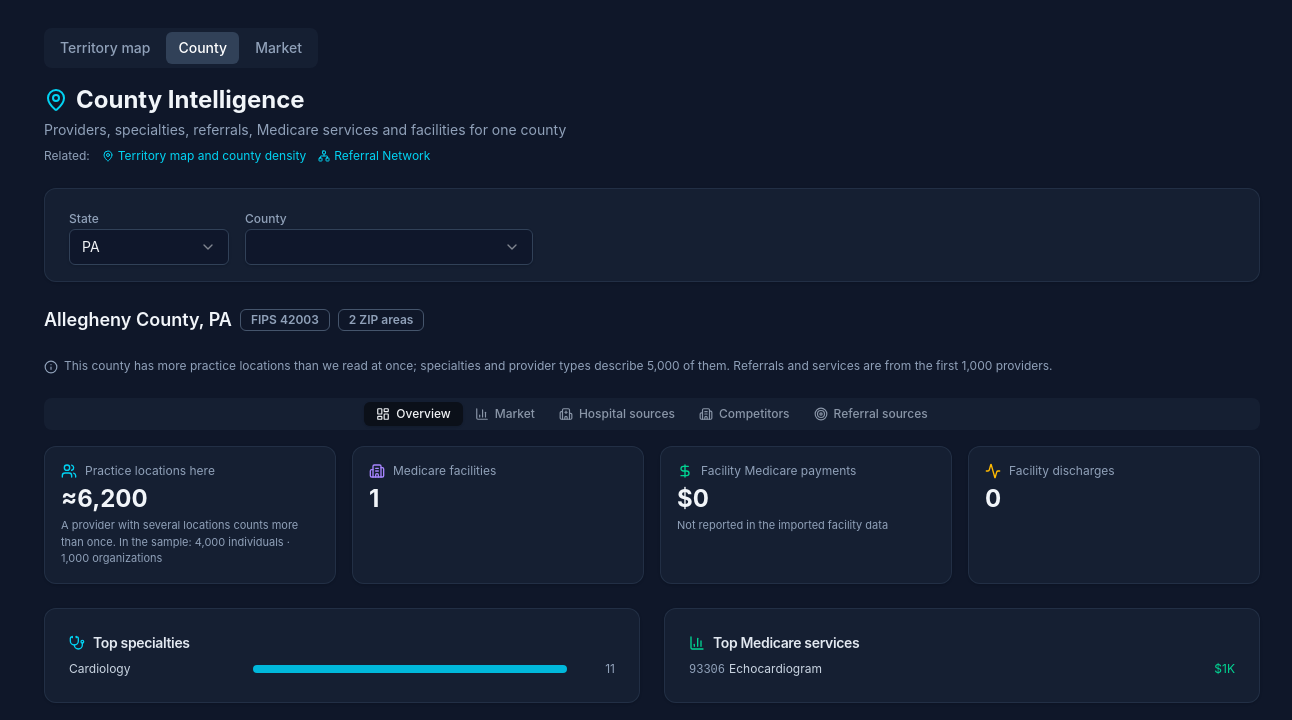
it: CountyIntelligence › drops the county when the state changes, and does not bring it back
The width and height of the screenshot is (1292, 720).
Expected: the heading "Allegheny County, PA" is shown, [44,306,232,334]
Press Enter in the dropdown with id "county-state", box [69,229,229,265]
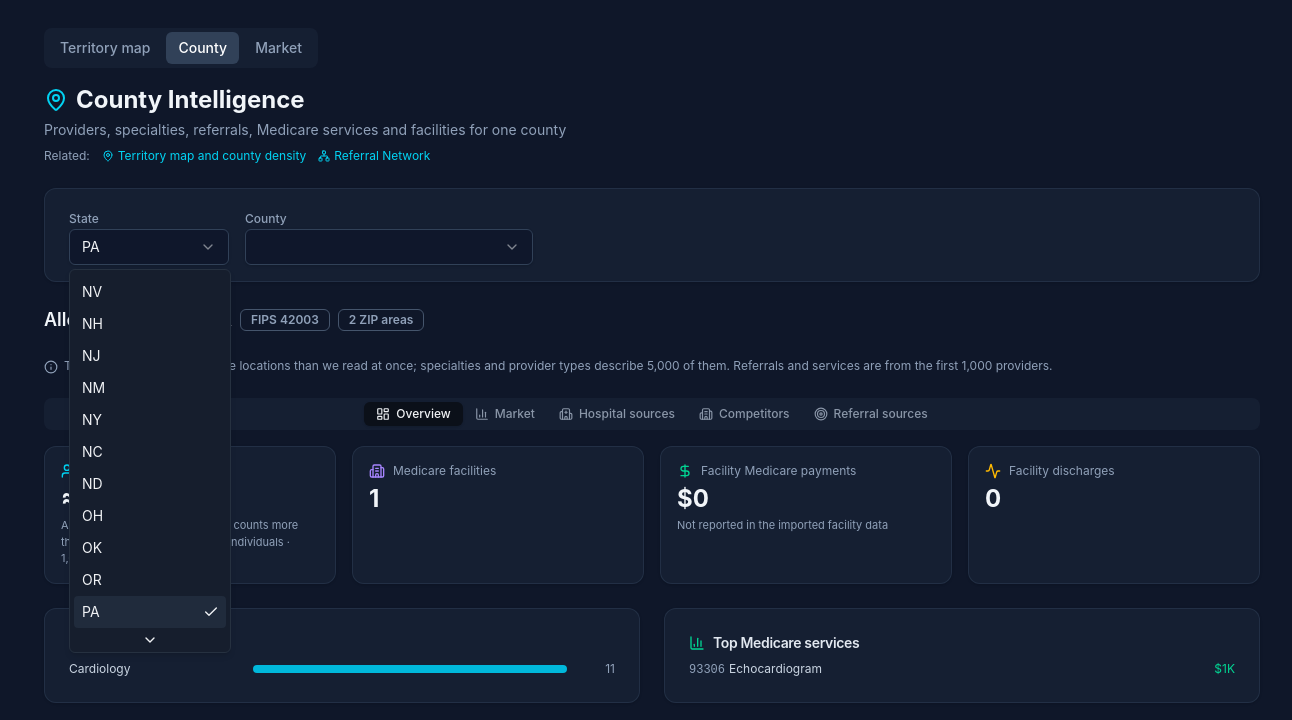
Click the option "OH".
click(93, 516)  # box [82,507,103,524]
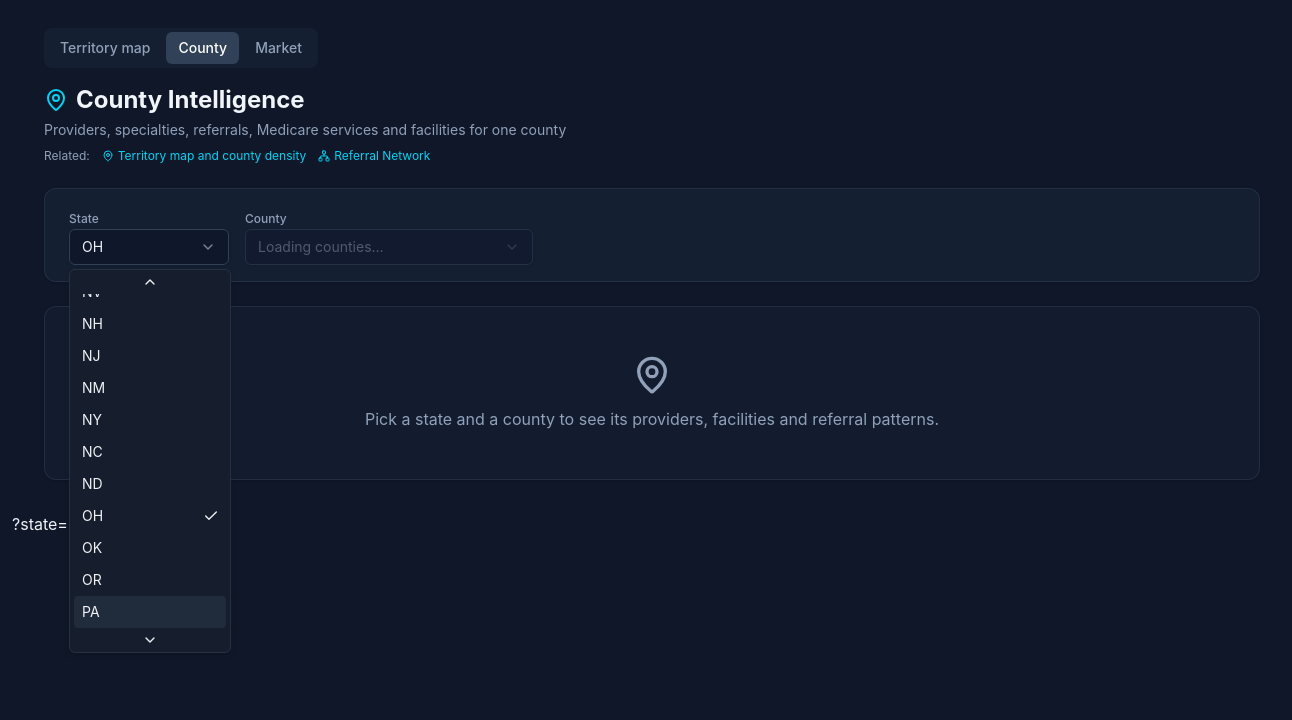
Expected: the text with test id "url" reads "?state=OH", [12,514,92,534]
Press Enter in the dropdown with id "county-state", box [69,229,229,265]
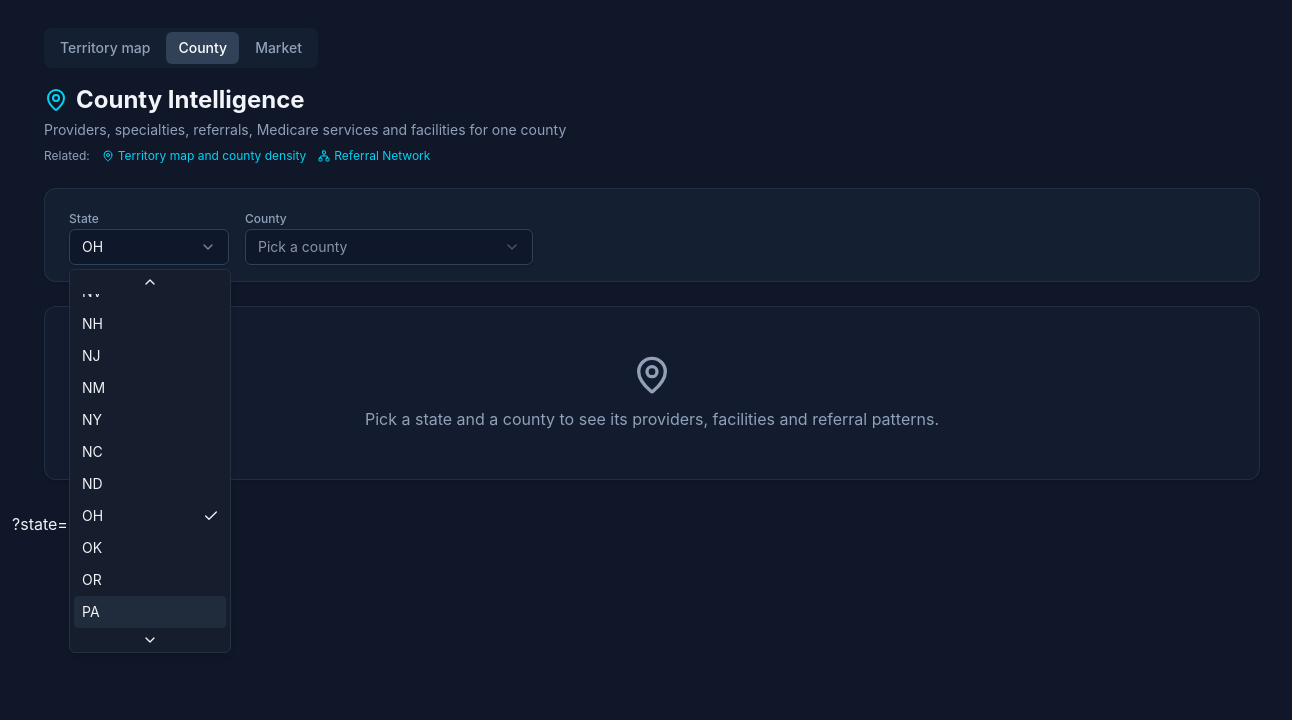
Click the option "PA".
click(150, 612)  # box [74,596,226,628]
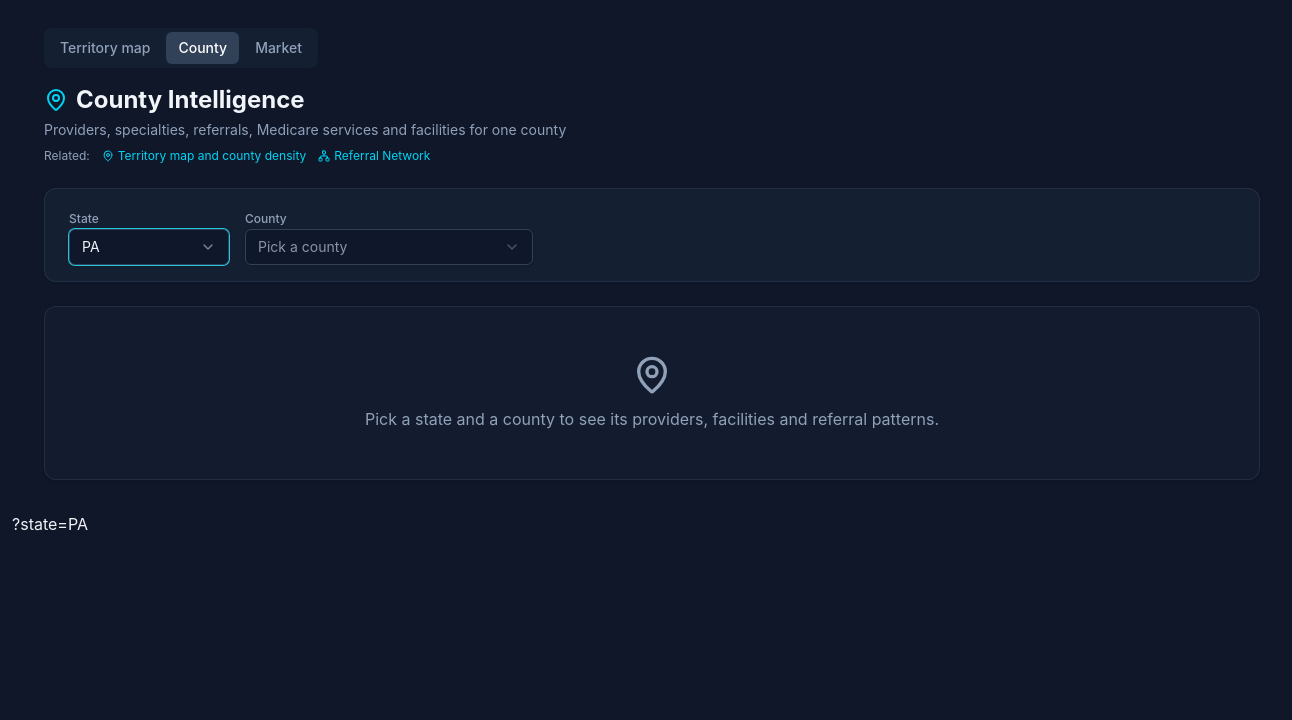
Expected: the text with test id "url" reads "?state=PA", [12,514,88,534]
